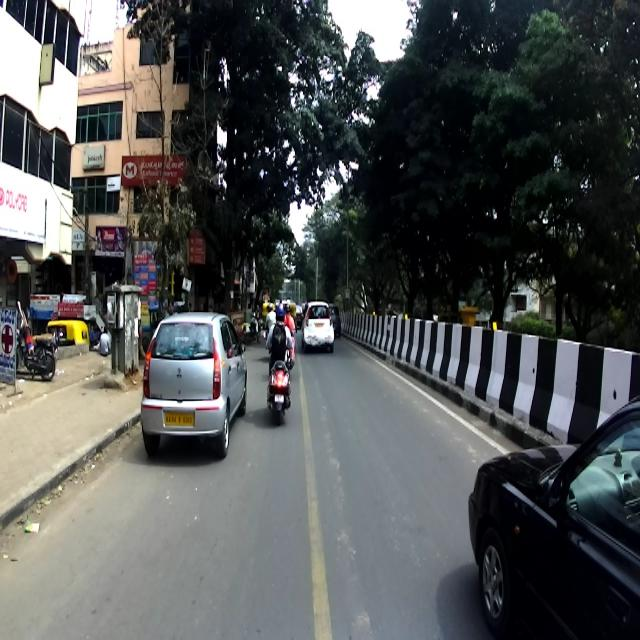Car_Hyundai: (466, 392, 640, 638)
Car_Maruti-Suzuki: (300, 301, 335, 355)
Car_TATA: (140, 311, 246, 458)
scooter: (263, 331, 293, 425)
